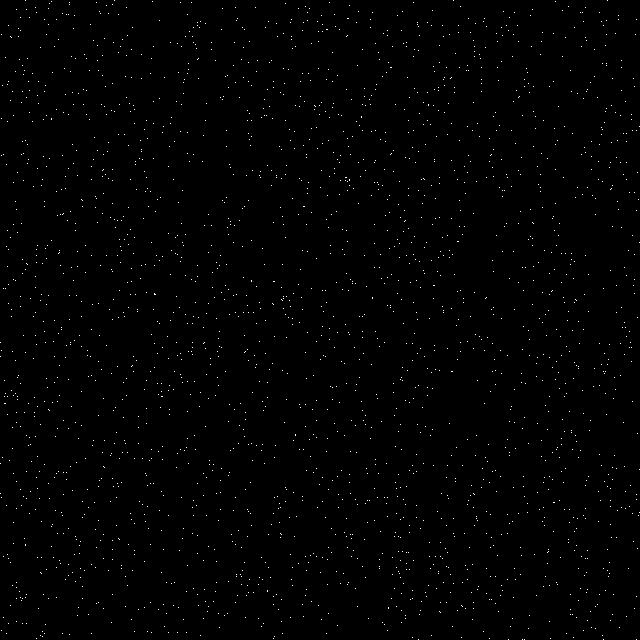adapter: (167, 306, 351, 539)
